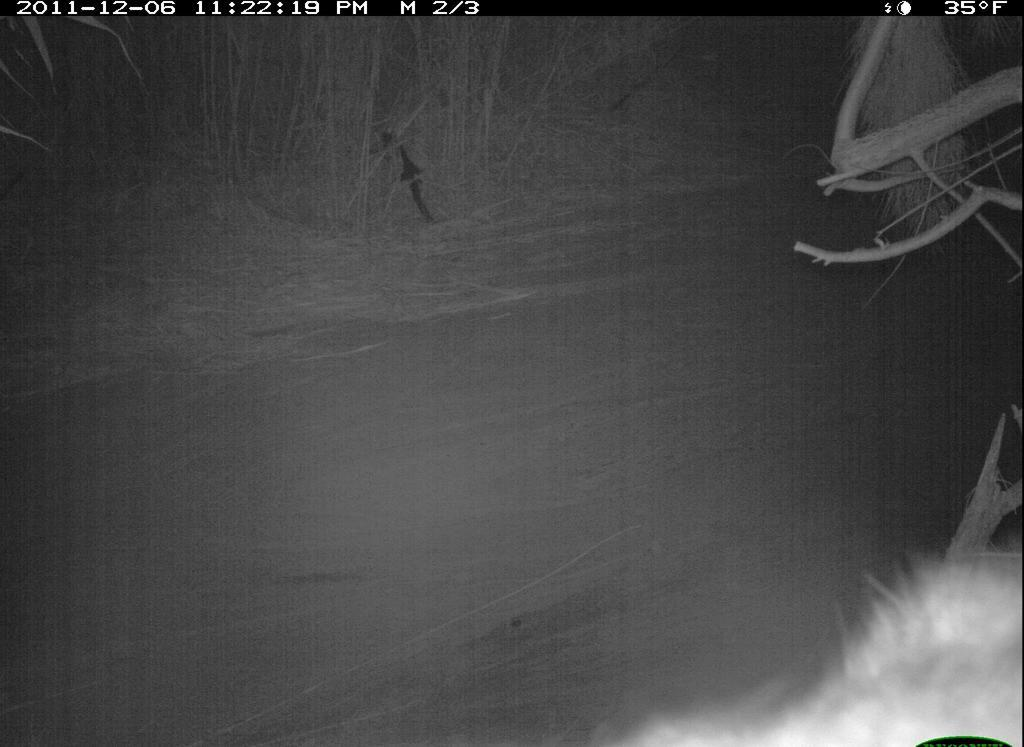raccoon: (579, 536, 1023, 745)
